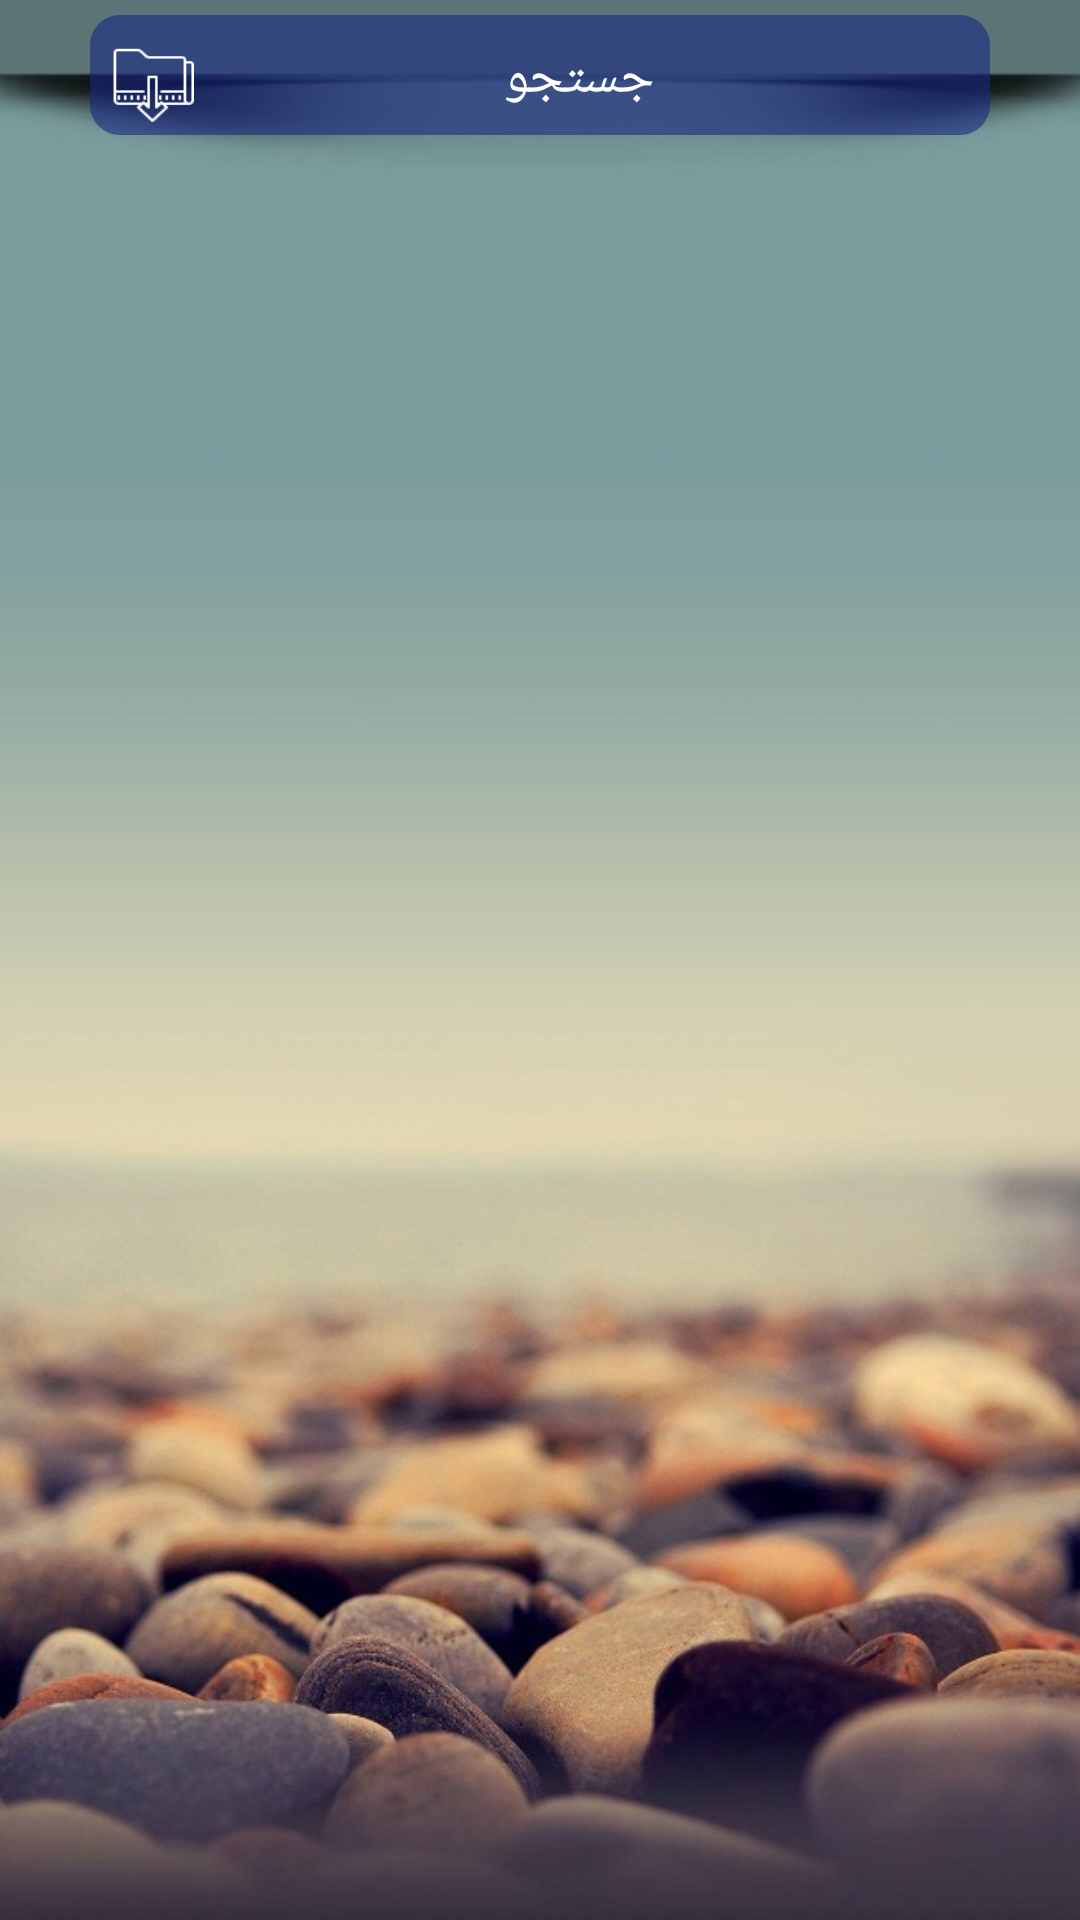

Screen size 1080 x 1920. Icon name, then its box in pixels as (x1, y1, x2, y2):
download: (111, 48, 194, 122)
